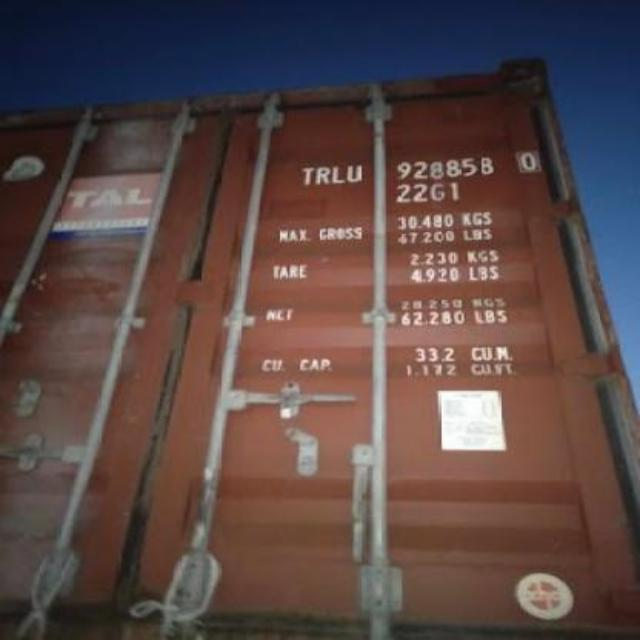0: (522, 154, 536, 170)
2: (412, 160, 430, 182)
5: (462, 157, 478, 177)
8: (430, 160, 446, 182), (446, 158, 462, 178), (481, 157, 494, 175)
9: (396, 161, 409, 179)
L: (332, 163, 346, 184)
R: (318, 164, 330, 186)
T: (300, 166, 316, 188)
U: (346, 164, 362, 182)
